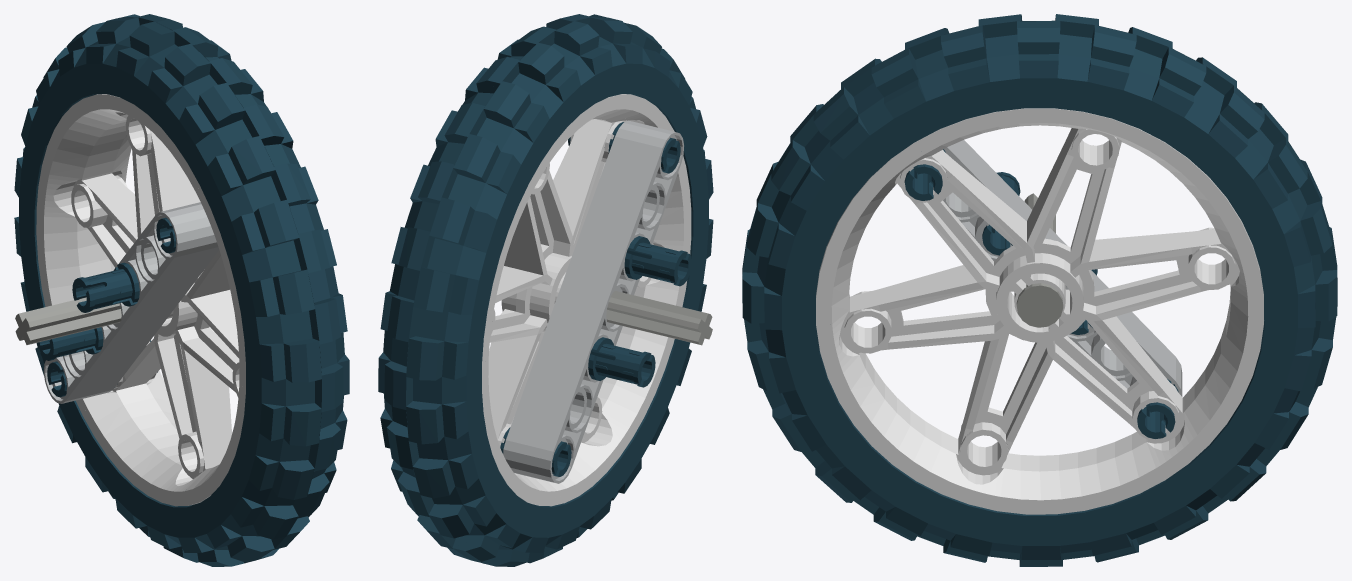
File: hackev_wheel.dae
The picture shows the model from 3 angles, left to right: view 1: azimuth 30°, elevation 25°; view 2: azimuth 150°, elevation 25°; view 3: azimuth 270°, elevation 25°; orthographic projection. The views are drawn at different scales.
Parts seen in each view (by area): view 1: Piece138, Piece137, Piece142, Piece139, Piece143, Piece144, Piece140, Piece141; view 2: Piece138, Piece137, Piece142, Piece139, Piece144, Piece143, Piece141, Piece140; view 3: Piece138, Piece137, Piece142, Piece139, Piece140, Piece141, Piece143.
Boxes of the visible parts, box(x1,y1,x2,y2) form: Piece138: box(14, 14, 349, 566); Piece137: box(36, 94, 245, 506); Piece142: box(43, 202, 219, 403); Piece139: box(15, 297, 121, 344); Piece143: box(72, 262, 139, 312); Piece144: box(36, 327, 103, 360); Piece140: box(47, 340, 157, 397); Piece141: box(156, 217, 176, 253); Piece138: box(378, 14, 713, 566); Piece137: box(482, 94, 691, 506); Piece142: box(503, 120, 683, 483); Piece139: box(606, 291, 712, 345); Piece144: box(588, 337, 655, 387); Piece143: box(624, 236, 691, 286); Piece141: box(568, 122, 680, 173); Piece140: box(500, 427, 571, 476); Piece138: box(742, 14, 1337, 566); Piece137: box(816, 108, 1263, 514); Piece142: box(943, 140, 1182, 396); Piece139: box(1016, 193, 1063, 327); Piece140: box(1137, 379, 1178, 438); Piece141: box(904, 149, 945, 200); Piece143: box(982, 172, 1020, 255).
Bounding box in the file's own units: 0.0338 × 0.0815 × 0.0815.
